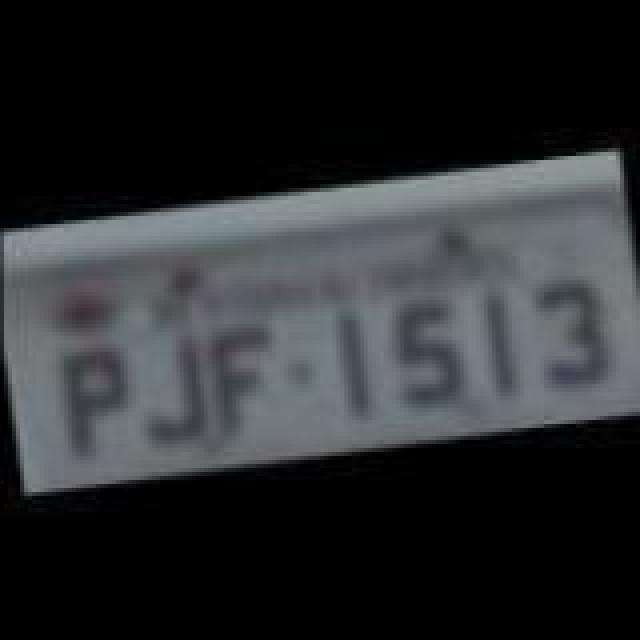1: (474, 284, 522, 400), (332, 306, 376, 418)
3: (530, 278, 618, 394)
5: (388, 296, 472, 416)
F: (206, 320, 294, 440)
J: (128, 328, 216, 444)
P: (54, 340, 146, 460)
